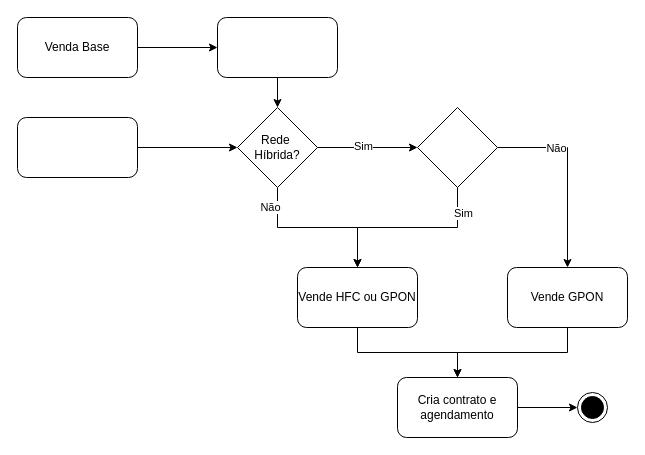
Some shapes in this 645 by 455 pixel diagram are drawn without their labels. Each missing label, with the centre of its shape:
"Migração de pacote" goes at pixel 277 47.
"Perfil Vendedor HFC?" goes at pixel 457 147.
"Venda Prospect" goes at pixel 77 147.
